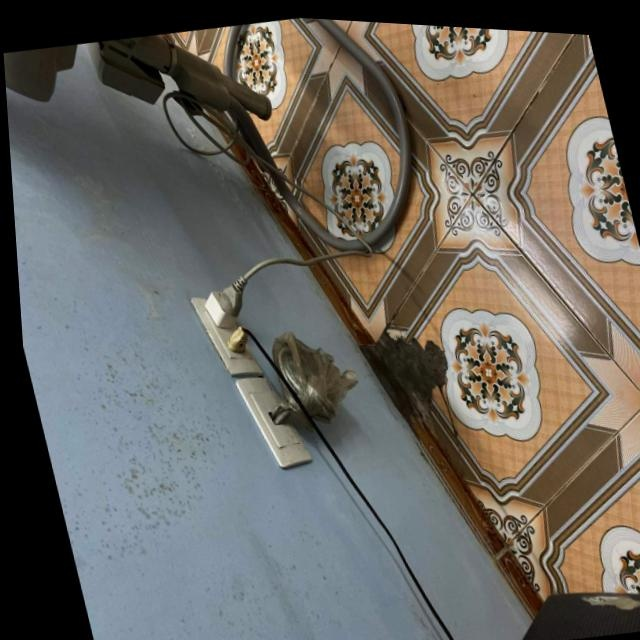outlet: (233, 367, 314, 474), (188, 285, 264, 383)
